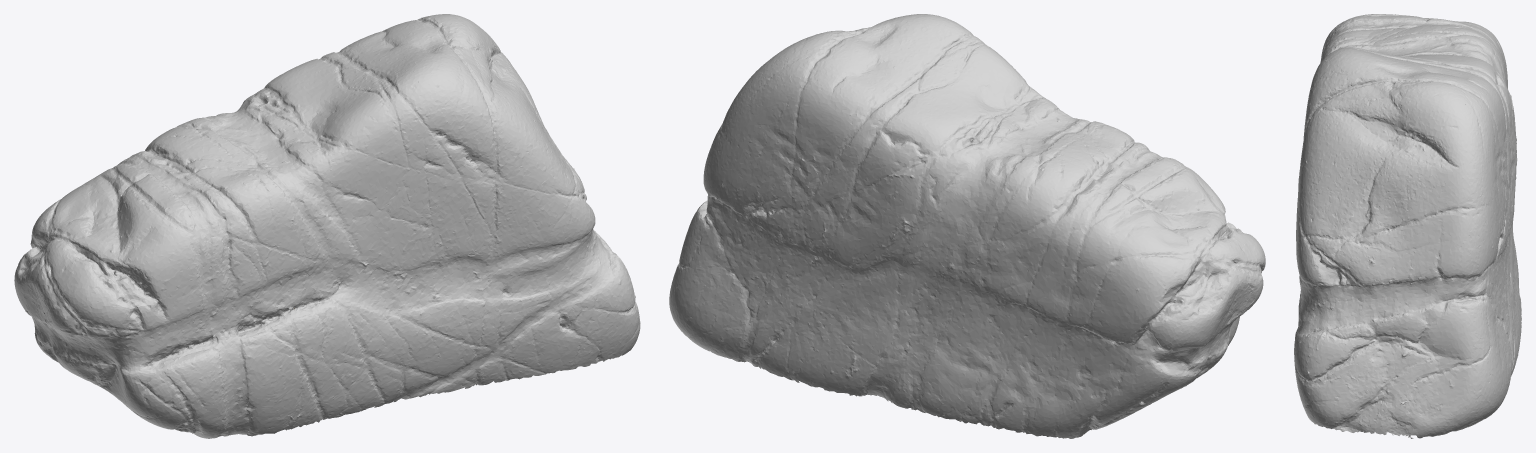
The picture shows the model from 3 angles, left to right: view 1: azimuth 30°, elevation 25°; view 2: azimuth 150°, elevation 25°; view 3: azimuth 270°, elevation 25°; orthographic projection. The views are drawn at different scales.
Parts seen in each view (by area): view 1: sasso03.001; view 2: sasso03.001; view 3: sasso03.001.
Boxes of the visible parts, x1=… form: sasso03.001: x1=14, y1=14, x2=640, y2=438; sasso03.001: x1=669, y1=14, x2=1265, y2=438; sasso03.001: x1=1294, y1=14, x2=1521, y2=438.
Size of the model in its own units: 35.46 by 19.37 by 13.57.
2 materials, 1 textured.
